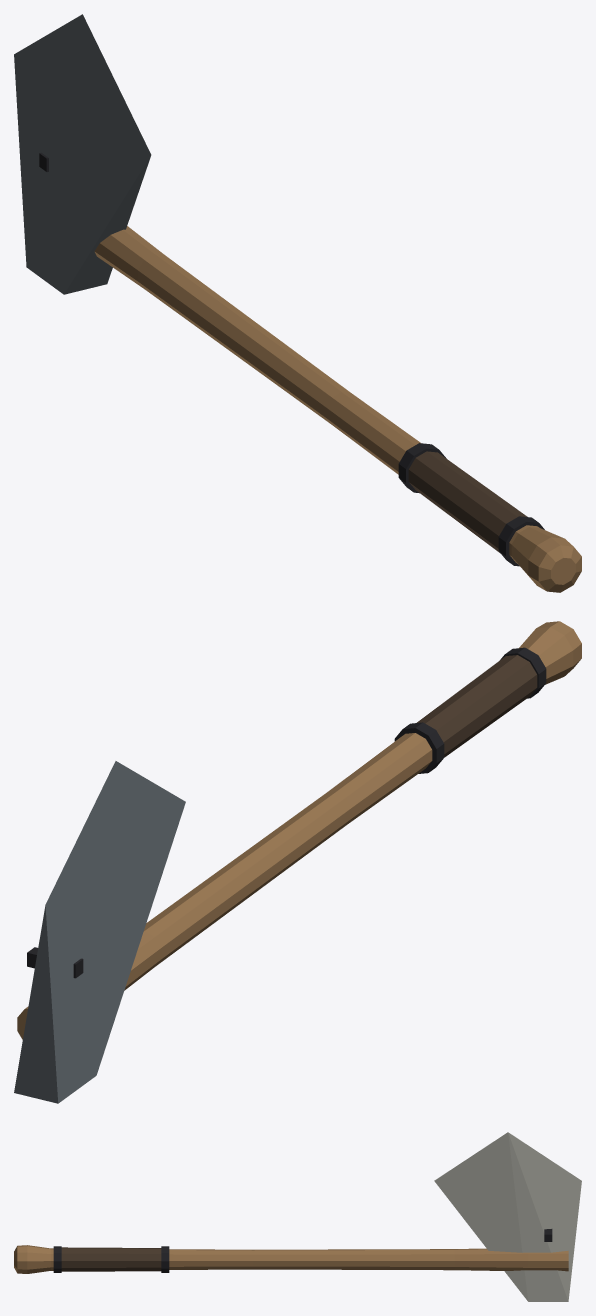
File: axe.glb
The picture shows the model from 3 angles, top to bottom: view 1: azimuth 30°, elevation 25°; view 2: azimuth 150°, elevation 25°; view 3: azimuth 270°, elevation 25°; orthographic projection. The views are drawn at different scales.
Visible parts, largest first — view 1: axe; view 2: axe; view 3: axe.
Boxes of the visible parts, x1=… form: axe: x1=14, y1=14, x2=581, y2=592; axe: x1=14, y1=621, x2=581, y2=1103; axe: x1=14, y1=1132, x2=581, y2=1301.
Bounding box in the file's own units: 0.044 × 0.26 × 0.845.
Materials: 1 (1 with a texture image).
